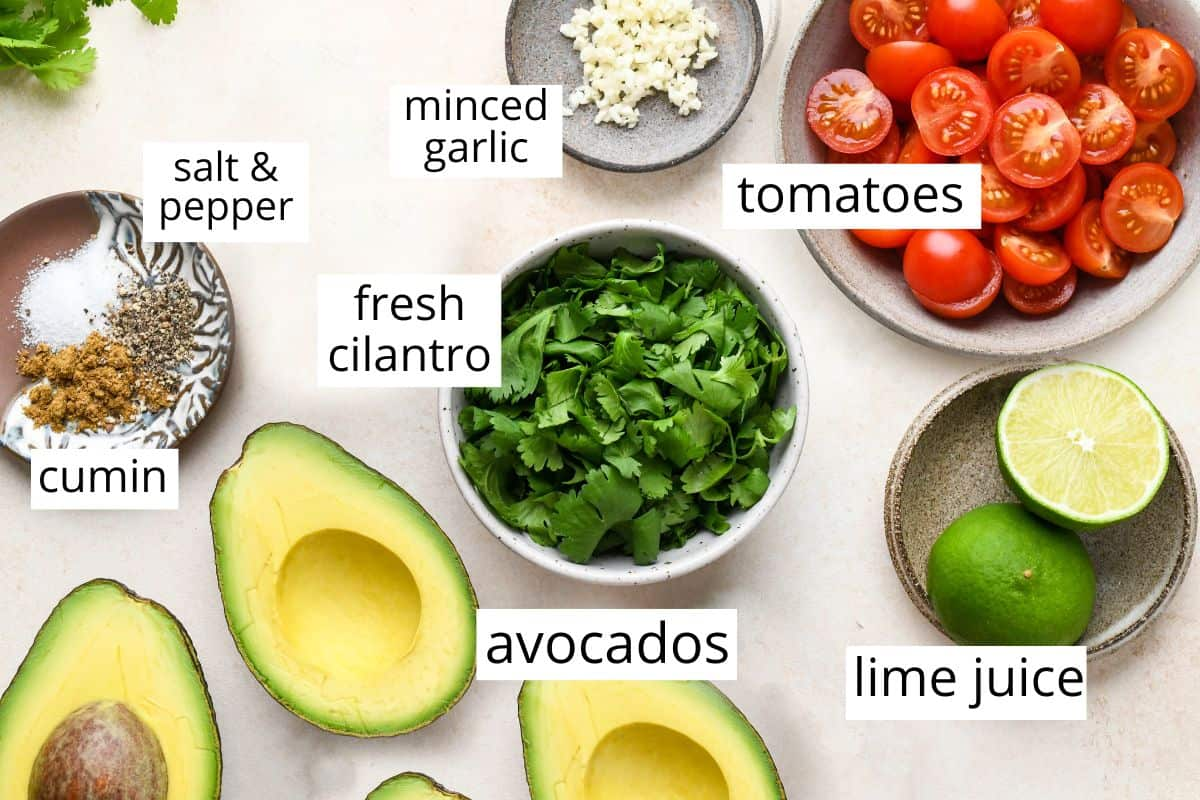Cilantro: (460, 243, 793, 579)
Tomato: (904, 222, 1004, 315), (1041, 0, 1128, 62), (929, 0, 1007, 66)
